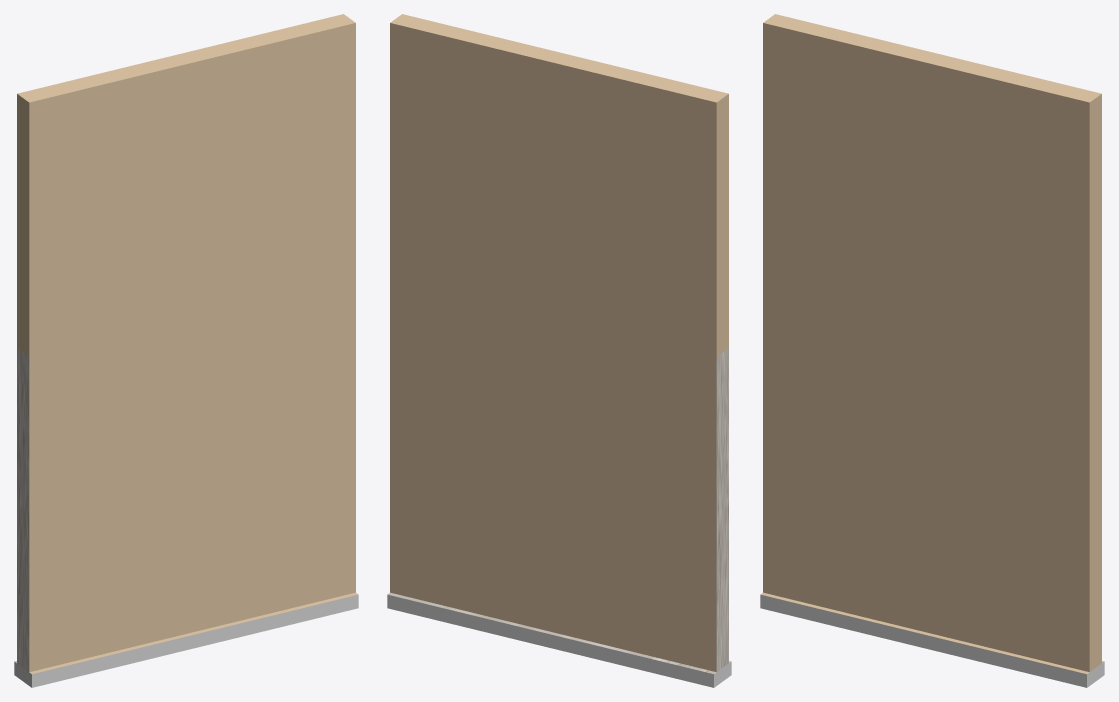
Rendered from Wall.fbx.
3 renders of one model, left to right at view 1: azimuth 30°, elevation 25°; view 2: azimuth 150°, elevation 25°; view 3: azimuth 330°, elevation 25°, orthographic.
Visible parts, largest first — view 1: pCube38; view 2: pCube38; view 3: pCube38.
Part boxes in pixels (bbox=[...]): pCube38: bbox=[14, 14, 358, 687]; pCube38: bbox=[387, 14, 731, 687]; pCube38: bbox=[760, 14, 1104, 687].
Size of the model in its own units: 313 by 533 by 29.06.
